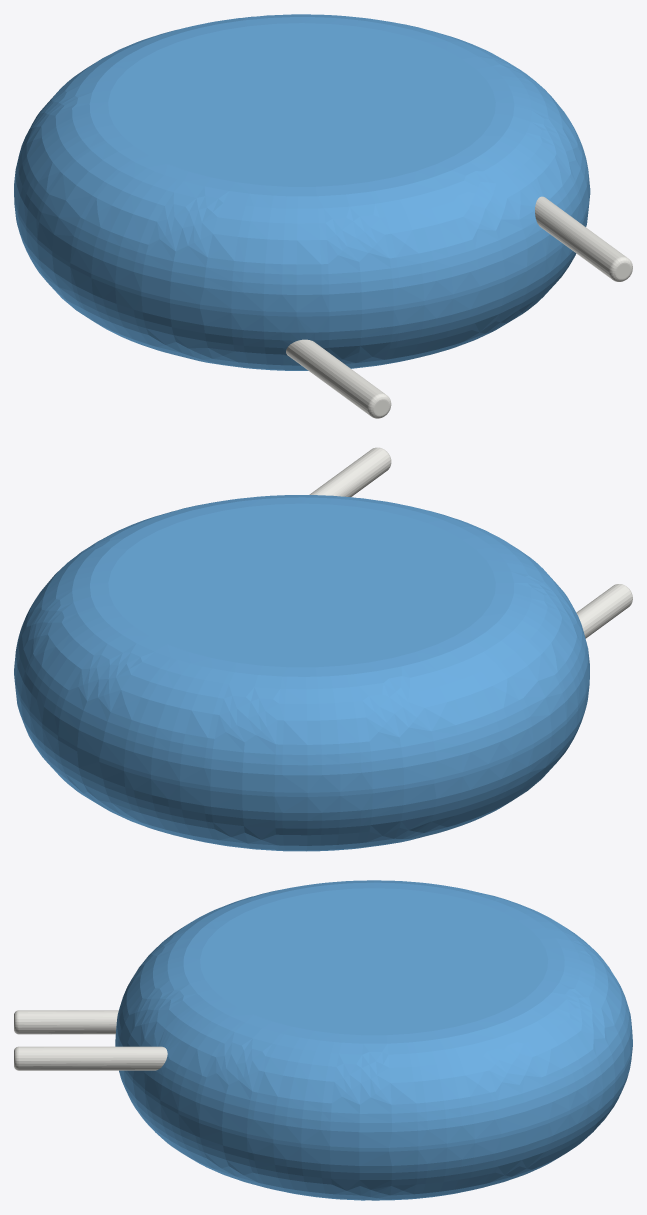
File: RV_Disc_D15.5mm_W5.2mm_P7.5mm.glb
The picture shows the model from 3 angles, top to bottom: view 1: azimuth 30°, elevation 25°; view 2: azimuth 150°, elevation 25°; view 3: azimuth 270°, elevation 25°; orthographic projection. The views are drawn at different scales.
Parts seen in each view (by area): view 1: Shape_IndexedFaceSet.001, Shape_IndexedFaceSet.003, Shape_IndexedFaceSet.002, Shape_IndexedFaceSet, Shape_IndexedFaceSet.006, Shape_IndexedFaceSet.004; view 2: Shape_IndexedFaceSet.001, Shape_IndexedFaceSet.003, Shape_IndexedFaceSet.002, Shape_IndexedFaceSet, Shape_IndexedFaceSet.004, Shape_IndexedFaceSet.006; view 3: Shape_IndexedFaceSet.001, Shape_IndexedFaceSet.003, Shape_IndexedFaceSet.002, Shape_IndexedFaceSet.004, Shape_IndexedFaceSet.006, Shape_IndexedFaceSet.
Boxes of the visible parts, <box> form: Shape_IndexedFaceSet.001: <box>14,14,590,312</box>; Shape_IndexedFaceSet.003: <box>108,23,495,186</box>; Shape_IndexedFaceSet.002: <box>14,204,589,370</box>; Shape_IndexedFaceSet: <box>14,191,590,316</box>; Shape_IndexedFaceSet.006: <box>286,339,384,415</box>; Shape_IndexedFaceSet.004: <box>535,196,626,278</box>; Shape_IndexedFaceSet.001: <box>14,495,589,792</box>; Shape_IndexedFaceSet.003: <box>108,503,495,667</box>; Shape_IndexedFaceSet.002: <box>15,684,589,851</box>; Shape_IndexedFaceSet: <box>14,671,589,796</box>; Shape_IndexedFaceSet.004: <box>309,448,390,496</box>; Shape_IndexedFaceSet.006: <box>576,584,632,638</box>; Shape_IndexedFaceSet.001: <box>115,880,632,1147</box>; Shape_IndexedFaceSet.003: <box>200,888,548,1035</box>; Shape_IndexedFaceSet.002: <box>119,1046,632,1200</box>; Shape_IndexedFaceSet.004: <box>19,1046,167,1070</box>; Shape_IndexedFaceSet.006: <box>19,1010,118,1034</box>; Shape_IndexedFaceSet: <box>115,1043,632,1151</box>.
Size of the model in its own units: 6.1 by 2.05 by 7.29.
